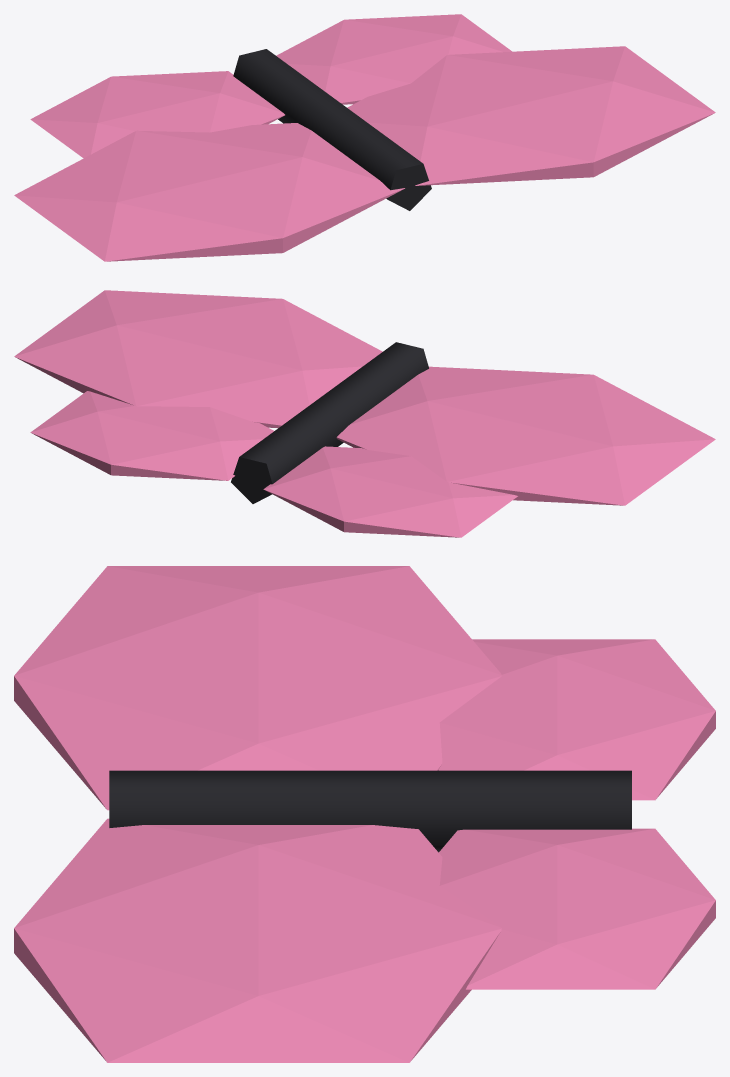
File: mariposa_v2.glb
3 renders of one model, top to bottom at view 1: azimuth 30°, elevation 25°; view 2: azimuth 150°, elevation 25°; view 3: azimuth 270°, elevation 25°, orthographic. The views are drawn at different scales.
Visible parts, largest first — view 1: ala_sup (×2), ala_inf (×2), cuerpo; view 2: ala_sup (×2), ala_inf (×2), cuerpo; view 3: ala_sup (×2), ala_inf (×2), cuerpo.
Boxes of the visible parts, x1,y1,x2,y2 form: ala_sup (×2): [14, 46, 715, 261]; ala_inf (×2): [30, 14, 511, 158]; cuerpo: [233, 49, 431, 210]; ala_sup (×2): [14, 290, 715, 505]; ala_inf (×2): [30, 391, 517, 537]; cuerpo: [231, 342, 428, 503]; ala_sup (×2): [14, 566, 501, 1062]; ala_inf (×2): [438, 639, 715, 989]; cuerpo: [109, 770, 631, 852].
Size of the model in its own units: 0.3148 by 0.0217 by 0.188.
